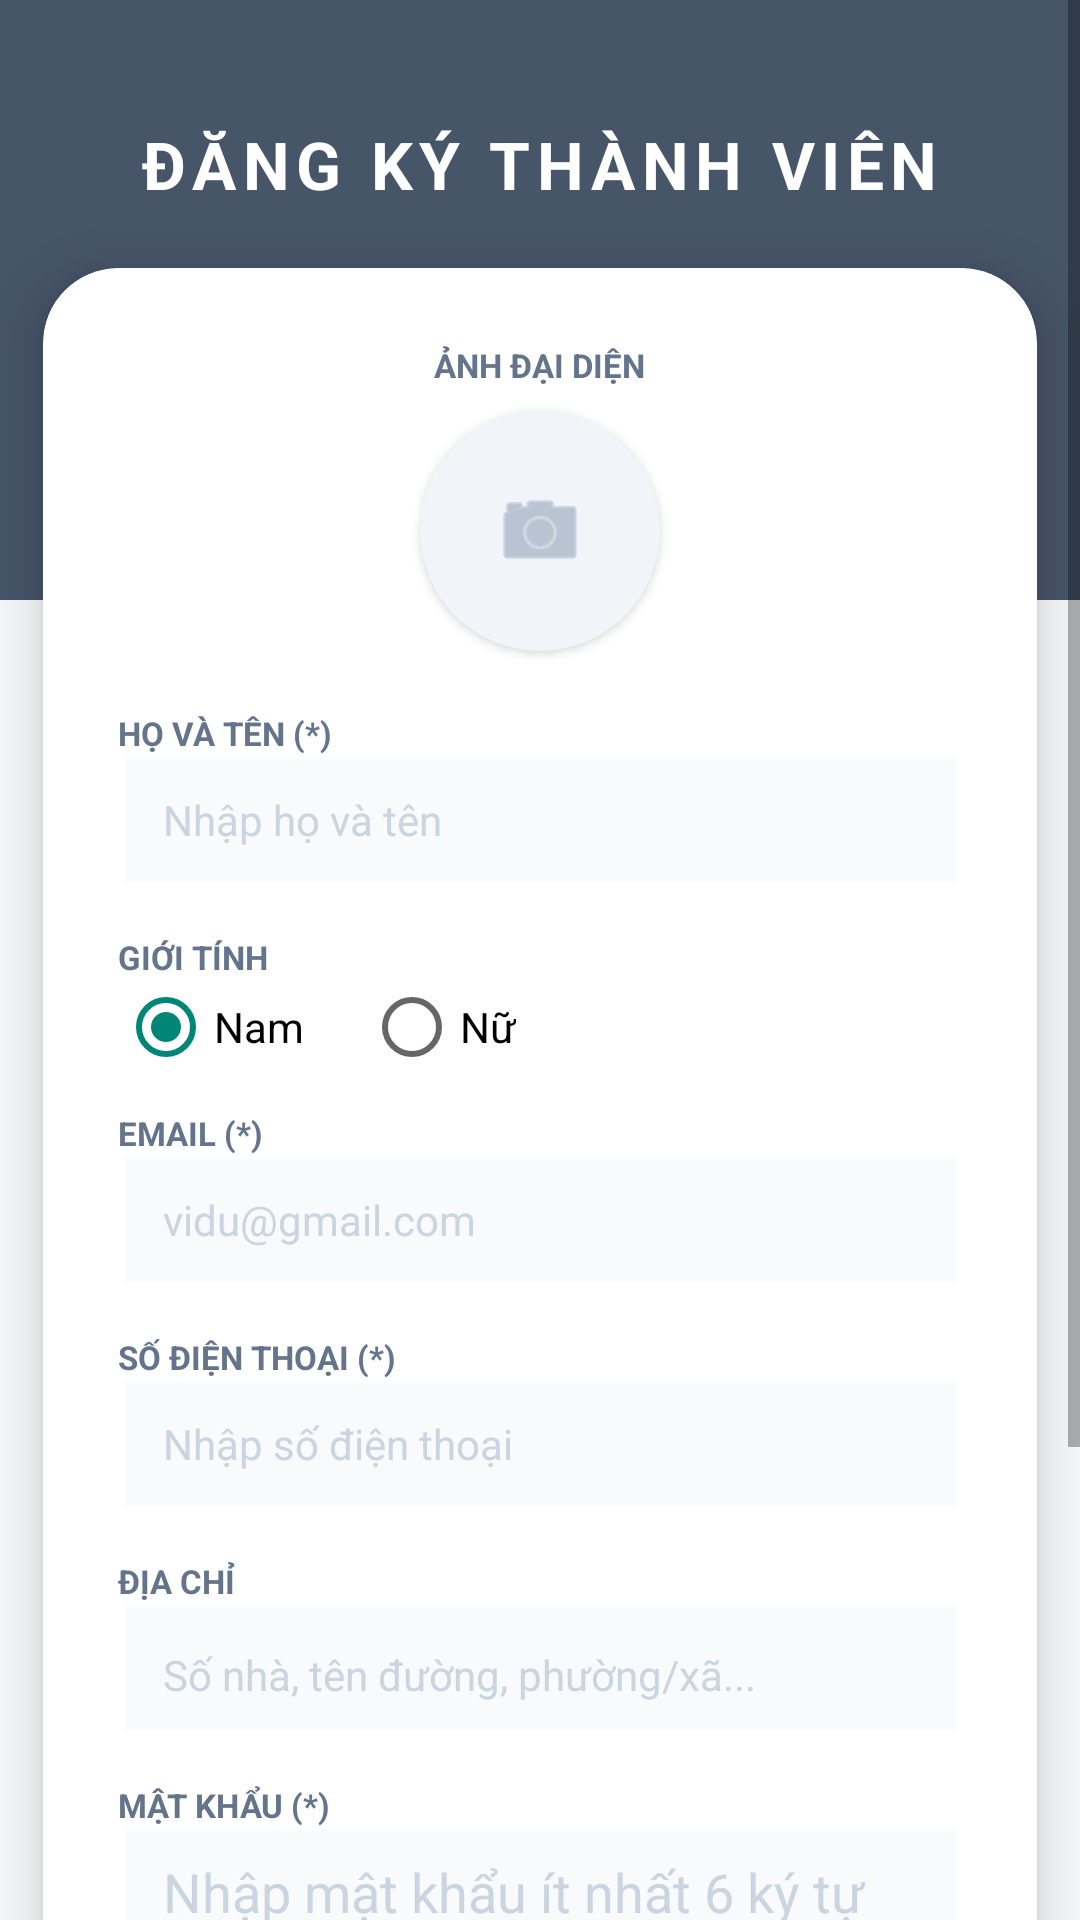

Icon click points for this 1080 × 1920 phone screenshot, format (x=x, y=y):
camera: (x=540, y=531)
